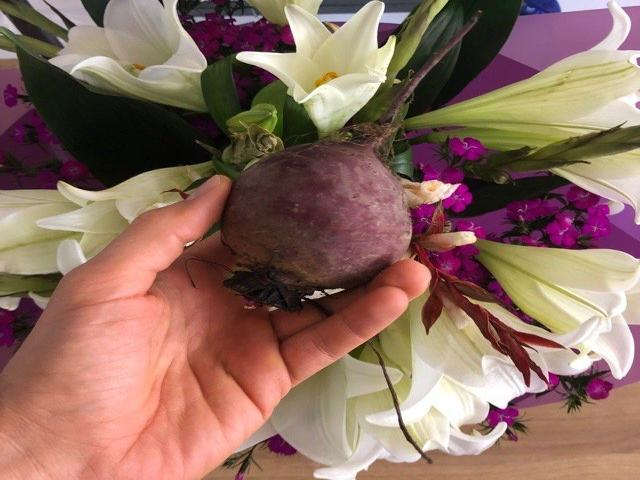beet: (221, 12, 483, 310)
